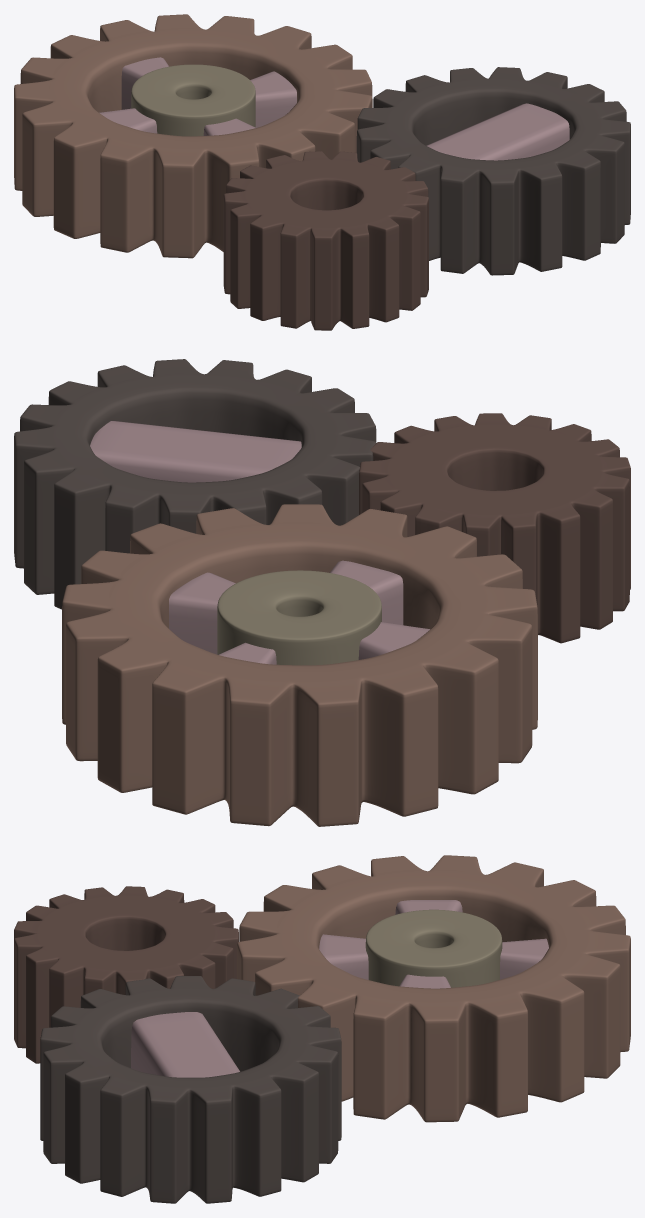
Rendered from gear.fbx.
3 renders of one model, top to bottom at view 1: azimuth 30°, elevation 25°; view 2: azimuth 150°, elevation 25°; view 3: azimuth 270°, elevation 25°, orthographic. The views are drawn at different scales.
Parts seen in each view (by area): view 1: circle.000; view 2: circle.000; view 3: circle.000.
Part boxes in pixels (x1,y1,x2,y2): circle.000: (14,14,630,330); circle.000: (14,359,630,826); circle.000: (14,855,630,1203).
Bounding box in the file's own units: 1466 × 284 × 1542.
